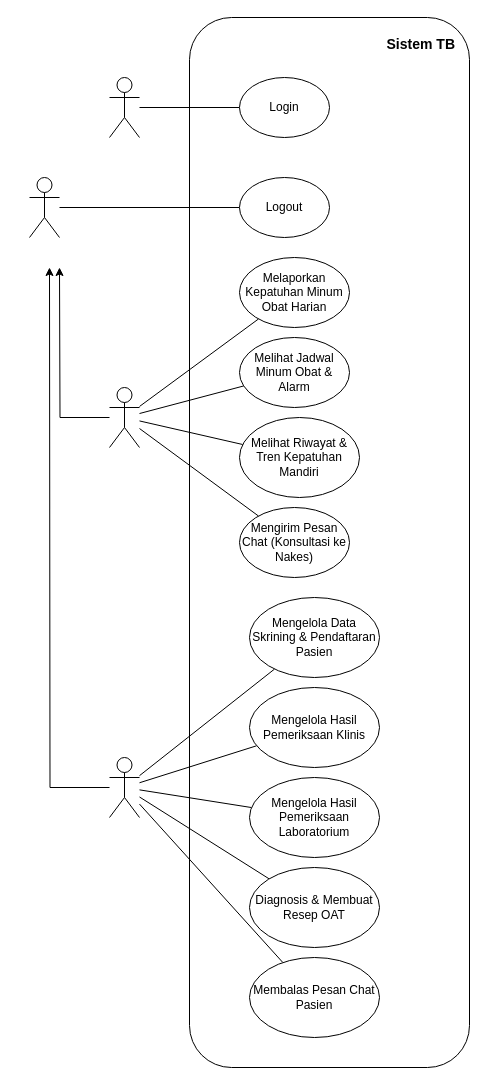
This 487x1085 diagram has some shape labels left out. The shapes that lost their labels are listed below. From the top down, each one's box as (x1, y1, x2, y2) in pixels, then its label:
(108, 76, 140, 138): Pengunjung
(28, 176, 60, 238): Pengguna
(108, 386, 140, 448): Pasien / Pendamping
(108, 756, 140, 818): Nakes
